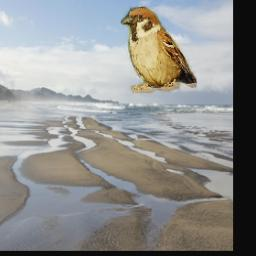Sparrow: (122, 7, 197, 94)
